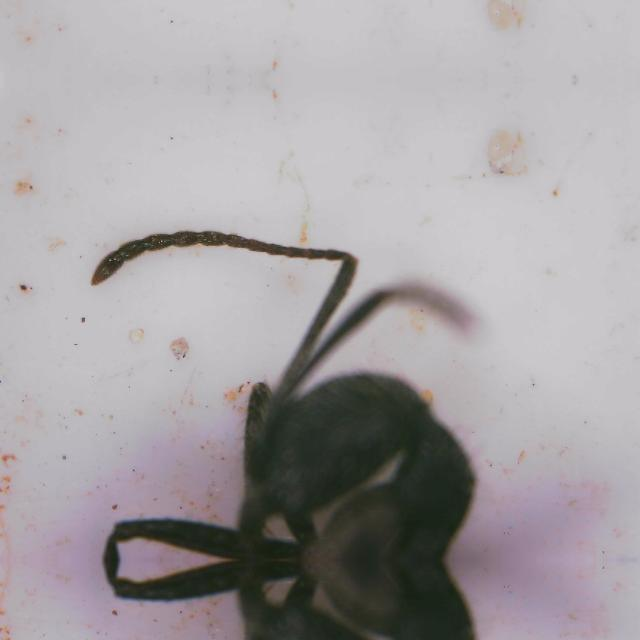Apheanogaster: (64, 182, 508, 560), (64, 560, 508, 640)
